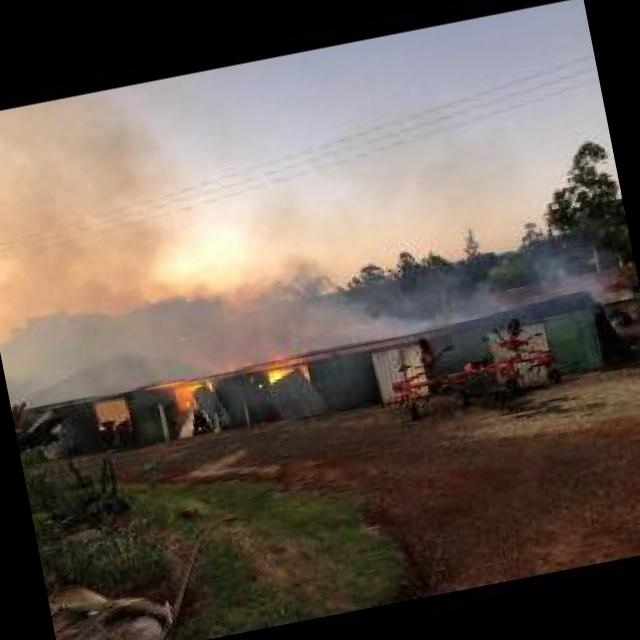fire: (162, 376, 202, 396), (266, 366, 288, 384)
smoke: (0, 84, 211, 356), (205, 238, 401, 375), (392, 230, 601, 342)
